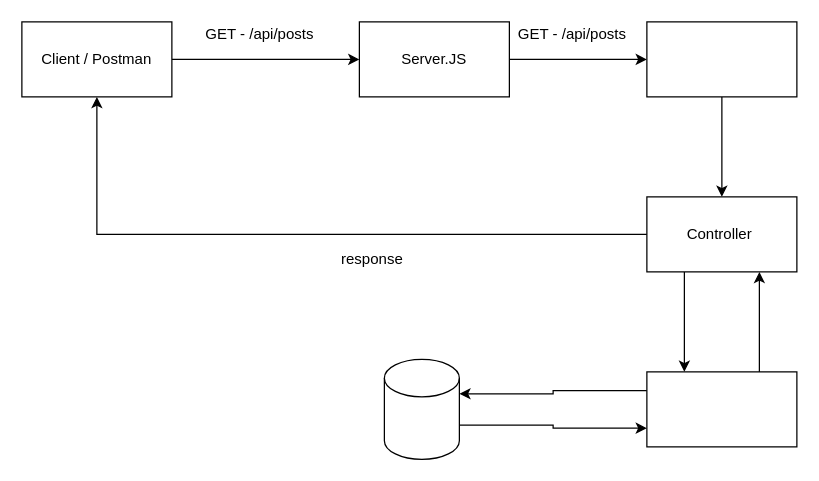
Image size: 819x481. Some labels were removed from this diagram. The box of each missing label's shape, as (x1, y1, x2, y2) in pixels:
PostModel: (646, 371, 797, 447)
Router: (646, 21, 797, 97)
